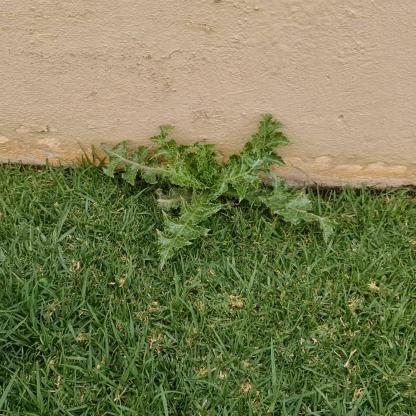Weeds: (102, 114, 335, 267)
